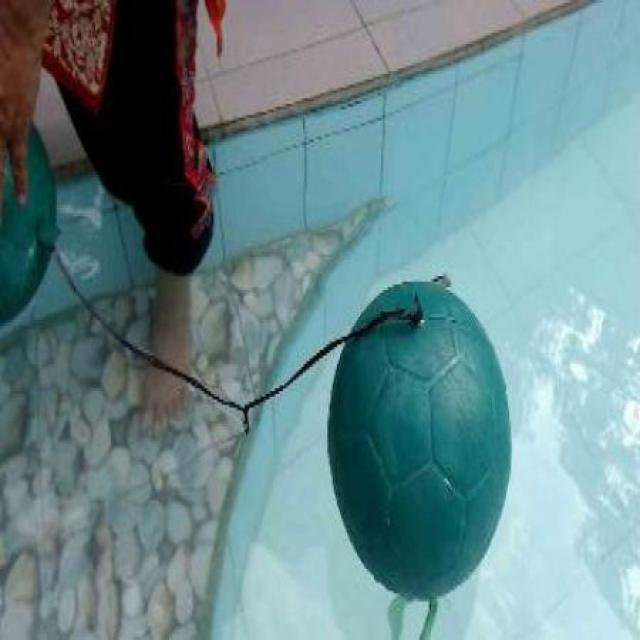buoy: (326, 280, 510, 600)
